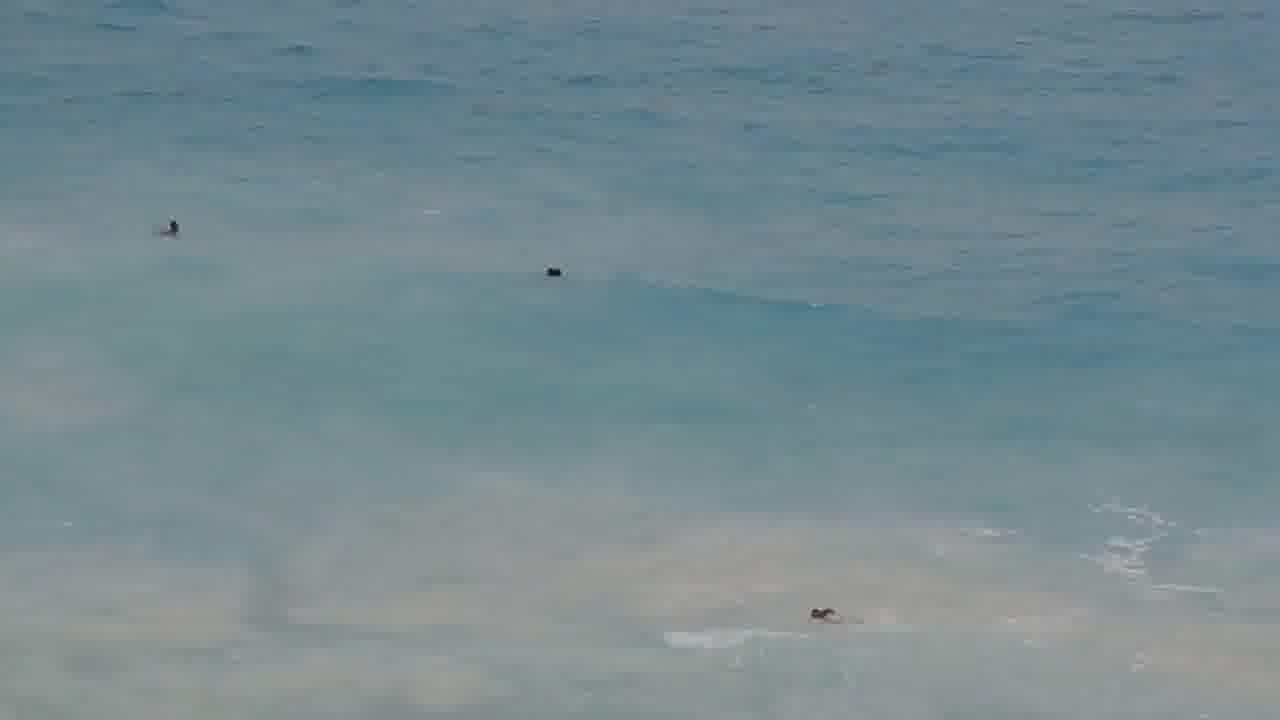human: (149, 209, 207, 258), (795, 596, 850, 634), (526, 256, 569, 294)
